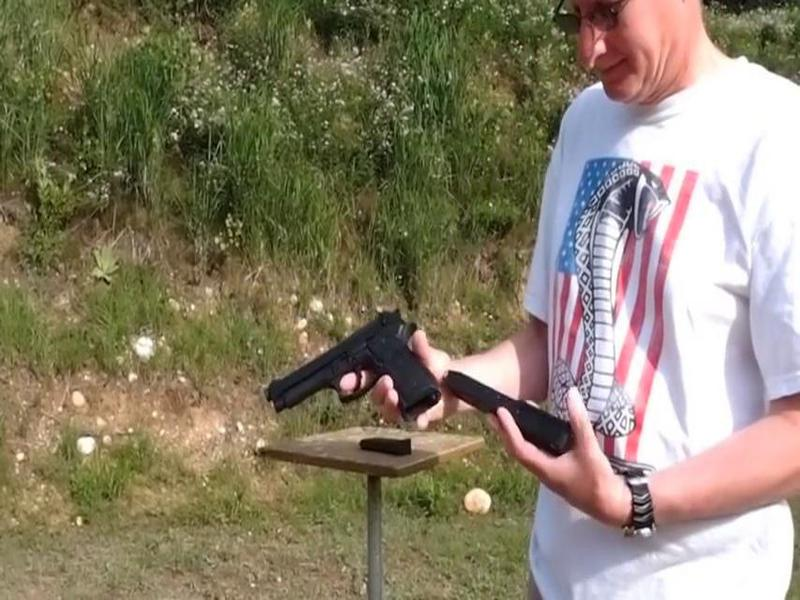Pistola: (262, 313, 439, 432)
